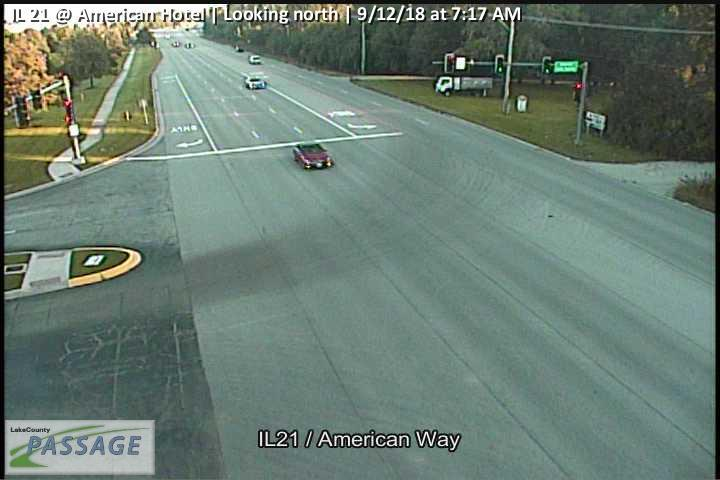Sedan: (292, 143, 335, 171), (244, 76, 265, 90), (247, 54, 262, 65)
Truck: (435, 75, 492, 98)
